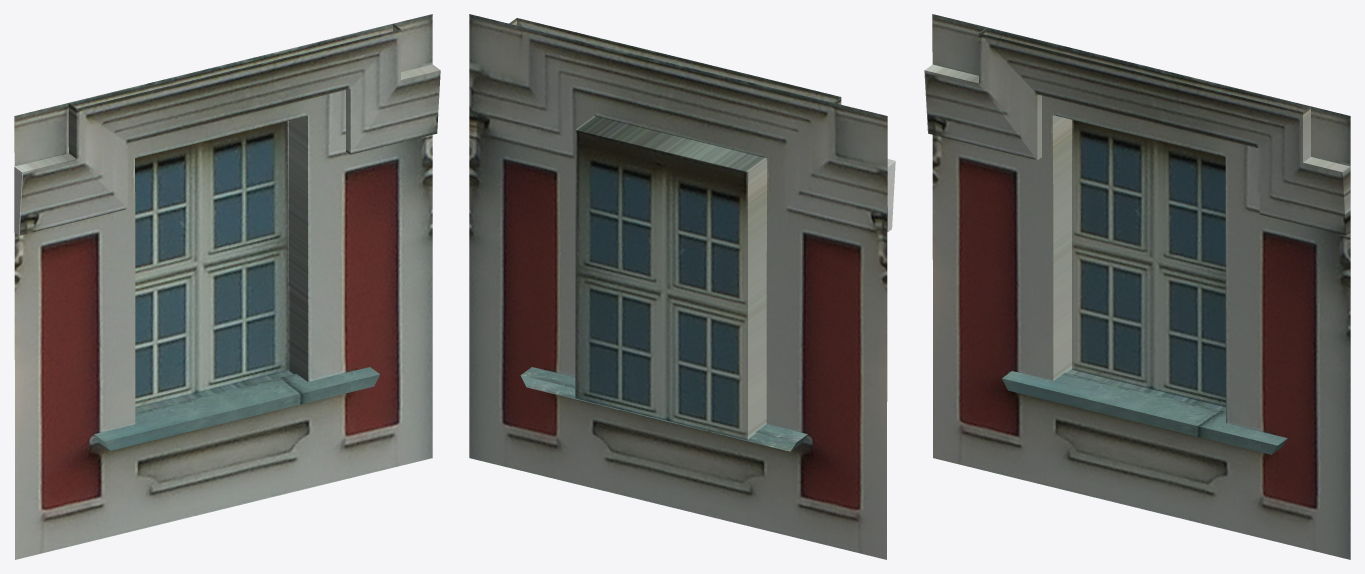
File: fenster3.obj
3 renders of one model, left to right at view 1: azimuth 30°, elevation 25°; view 2: azimuth 150°, elevation 25°; view 3: azimuth 330°, elevation 25°, orthographic.
Parts seen in each view (by area): view 1: polySurface50; view 2: polySurface50; view 3: polySurface50.
Boxes of the visible parts, x1=… form: polySurface50: x1=14, y1=14, x2=440, y2=559; polySurface50: x1=469, y1=14, x2=895, y2=559; polySurface50: x1=924, y1=14, x2=1350, y2=559.
Bounding box in the file's own units: 0.3728 × 0.378 × 0.0447.
Materials: 1 (1 with a texture image).
